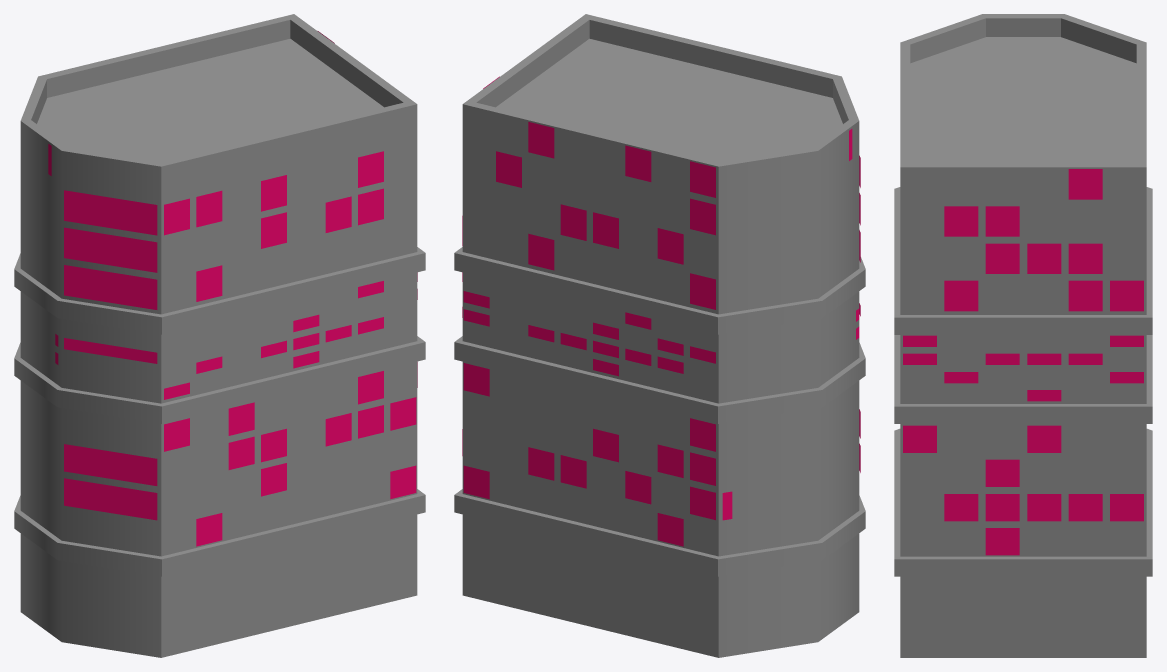
The model's file is obj_building008.FBX.
3 views of the same model, side by side, from view 1: azimuth 30°, elevation 25°; view 2: azimuth 150°, elevation 25°; view 3: azimuth 270°, elevation 25° (orthographic).
Parts seen in each view (by area): view 1: building005, Object017; view 2: building005, Object017; view 3: building005, Object017.
Boxes of the visible parts, x1,y1,x2,y2 form: building005: (14,14,425,657); Object017: (48,31,417,546); building005: (454,14,865,657); Object017: (462,76,860,546); building005: (894,14,1152,657); Object017: (903,169,1143,555).
Bounding box in the file's own units: 3048 × 4400 × 2100.
